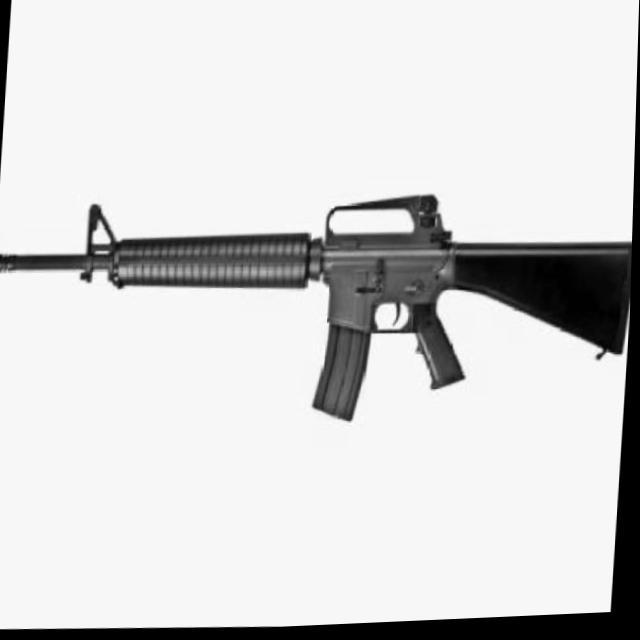weapon: (0, 173, 635, 446)
